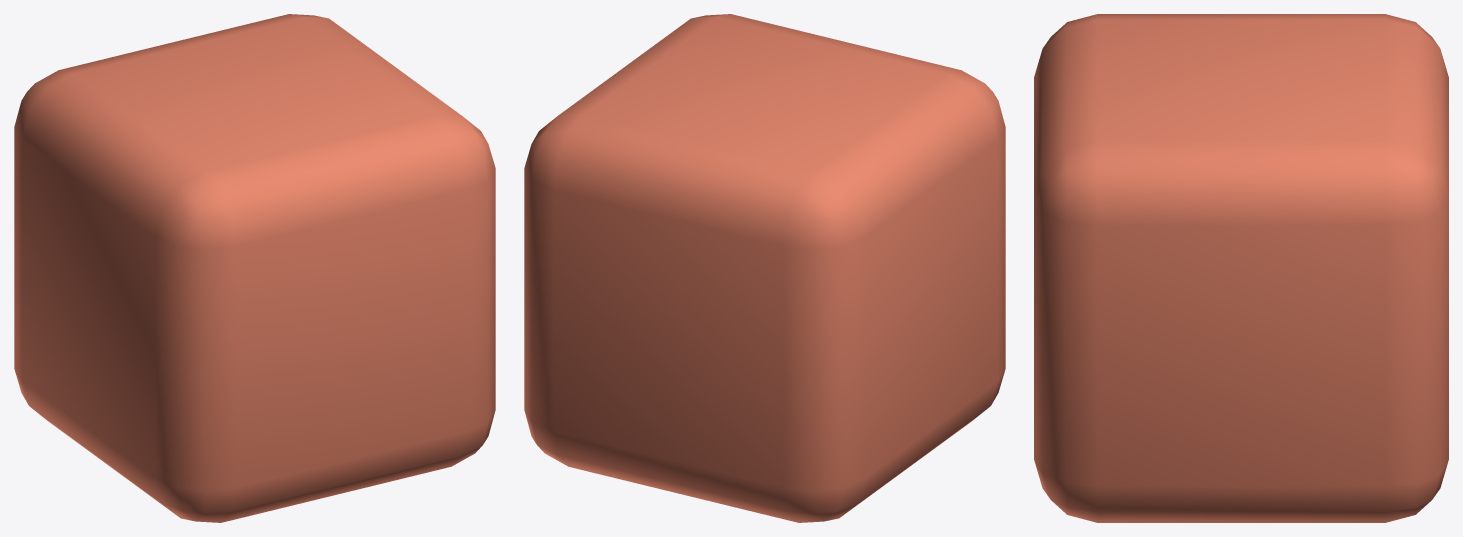
The model's file is smBox.fbx.
3 renders of one model, left to right at view 1: azimuth 30°, elevation 25°; view 2: azimuth 150°, elevation 25°; view 3: azimuth 270°, elevation 25°, orthographic. The views are drawn at different scales.
Visible parts, largest first — view 1: Cube; view 2: Cube; view 3: Cube.
Boxes of the visible parts, left/top/right/bottom form: Cube: left=14, top=14, right=495, bottom=522; Cube: left=524, top=14, right=1005, bottom=522; Cube: left=1034, top=14, right=1448, bottom=522.
Size of the model in its own units: 200 by 200 by 200.
